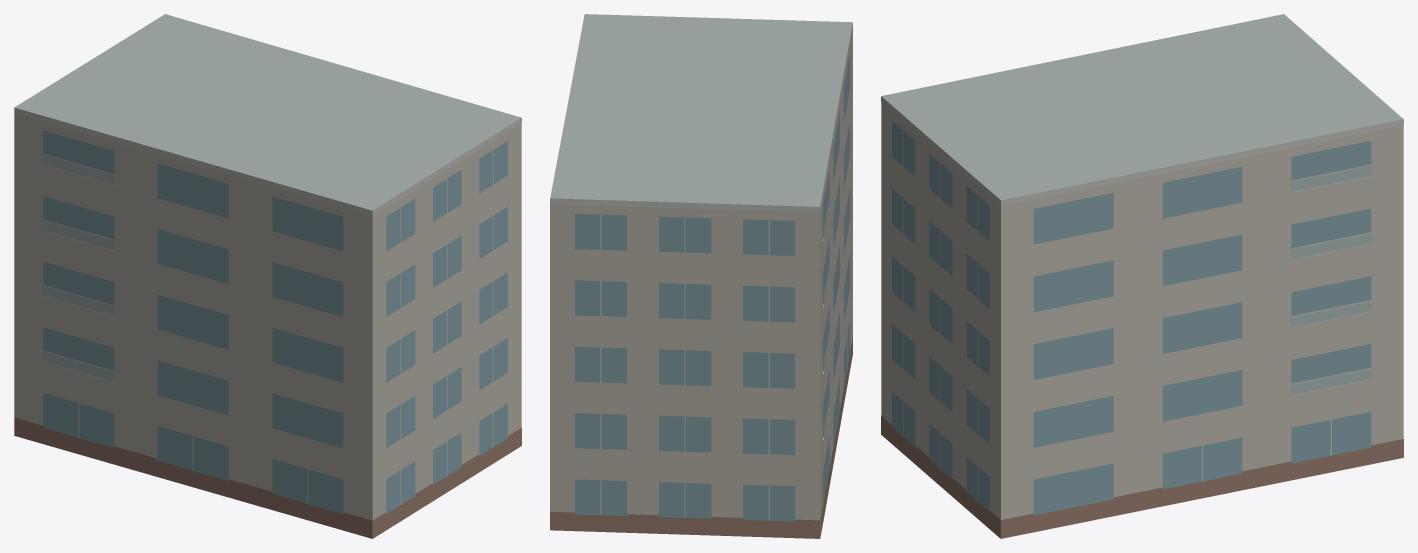
File: survey-upis-32758401.glb
3 renders of one model, left to right at view 1: azimuth 30°, elevation 25°; view 2: azimuth 150°, elevation 25°; view 3: azimuth 270°, elevation 25°, orthographic. The views are drawn at different scales.
Visible parts, largest first — view 1: survey-upis-32758401.tmp; view 2: survey-upis-32758401.tmp; view 3: survey-upis-32758401.tmp.
Part boxes in pixels (x1,y1,x2,y2): survey-upis-32758401.tmp: [14, 14, 521, 538]; survey-upis-32758401.tmp: [550, 14, 852, 538]; survey-upis-32758401.tmp: [881, 14, 1403, 538].
Size of the model in its own units: 16.95 by 14.35 by 20.09.
